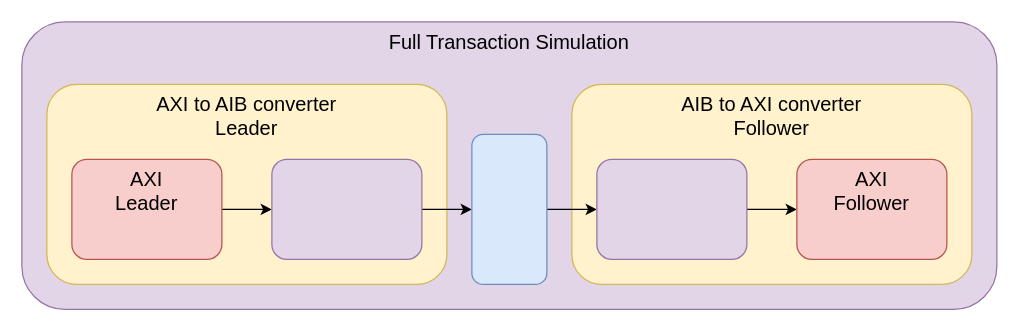
This 1019x331 diagram has some shape labels left out. The centre of each missing label's shape, as x and y in pixels:
"AIB Follower" goes at pixel 671 208.
"AIB Leader" goes at pixel 346 208.
"EMIB" goes at pixel 509 208.
